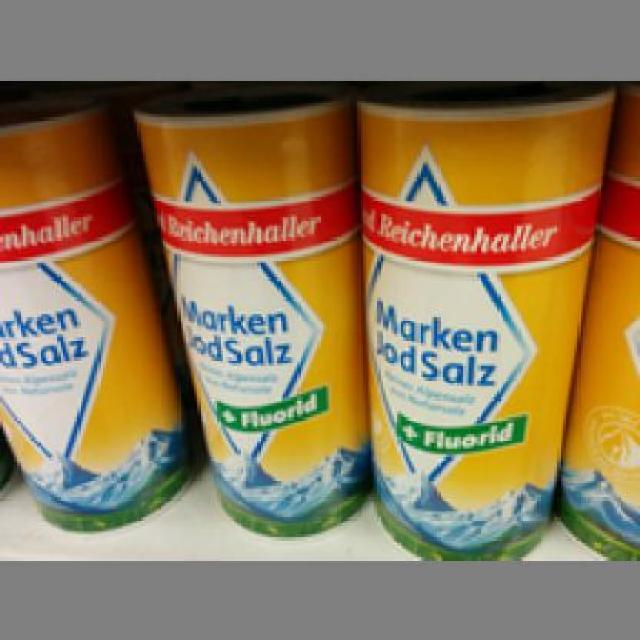Spices: (356, 82, 610, 558), (130, 97, 367, 540), (0, 102, 186, 532)
